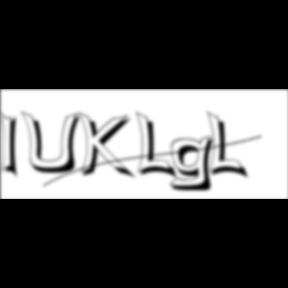I: (1, 110, 25, 182)
K: (78, 110, 138, 182)
L: (136, 110, 180, 182), (207, 110, 251, 182)
U: (22, 110, 86, 176)
g: (170, 134, 222, 194)
